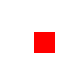square: (34, 32, 54, 52)
